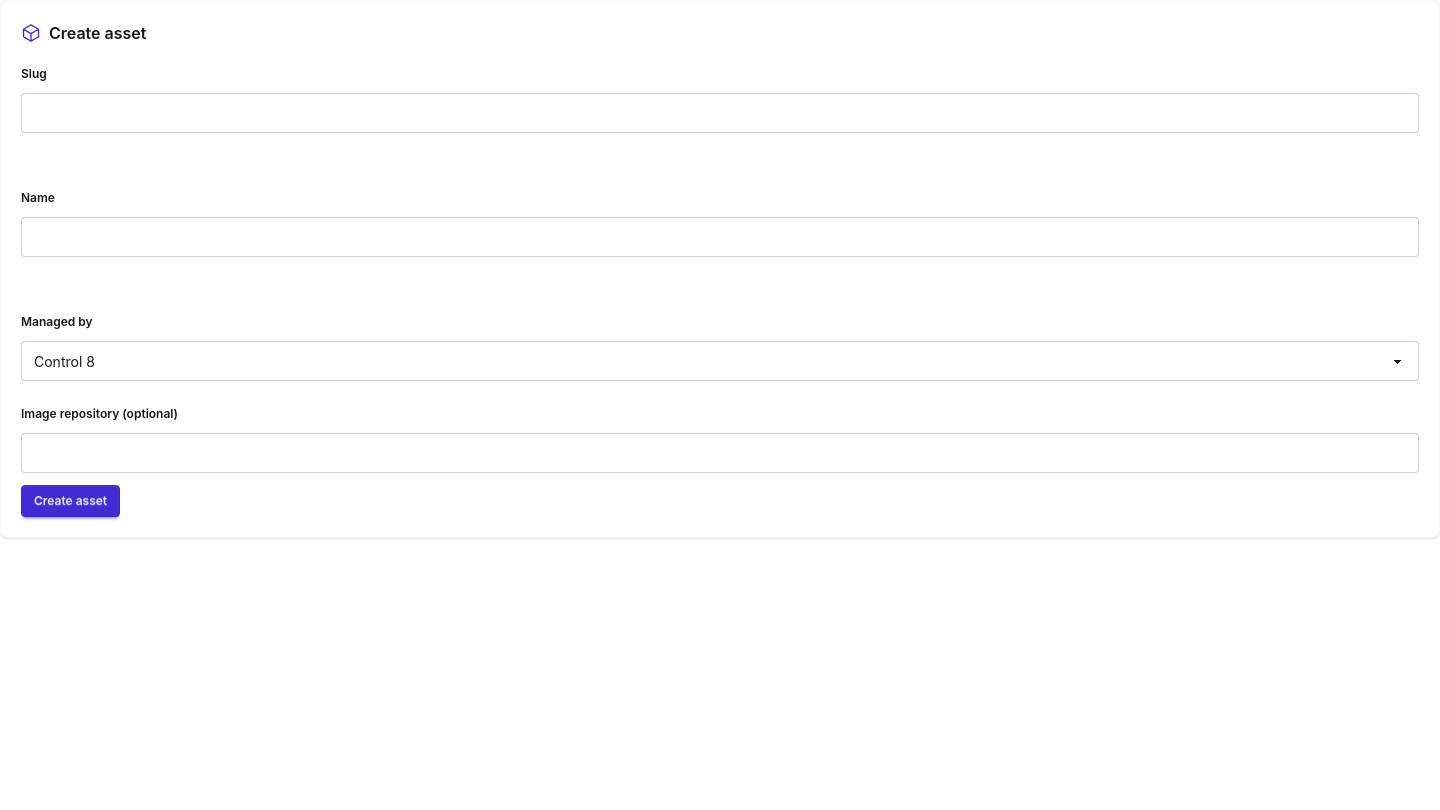
Test: API-004/UI error toasts: a 403 problem+json (missing CSRF) shows as an alert toast
The width and height of the screenshot is (1440, 810).
Type "web" into the field labelled "Slug".
click(720, 113); type("web")  # box [21, 93, 1419, 133]
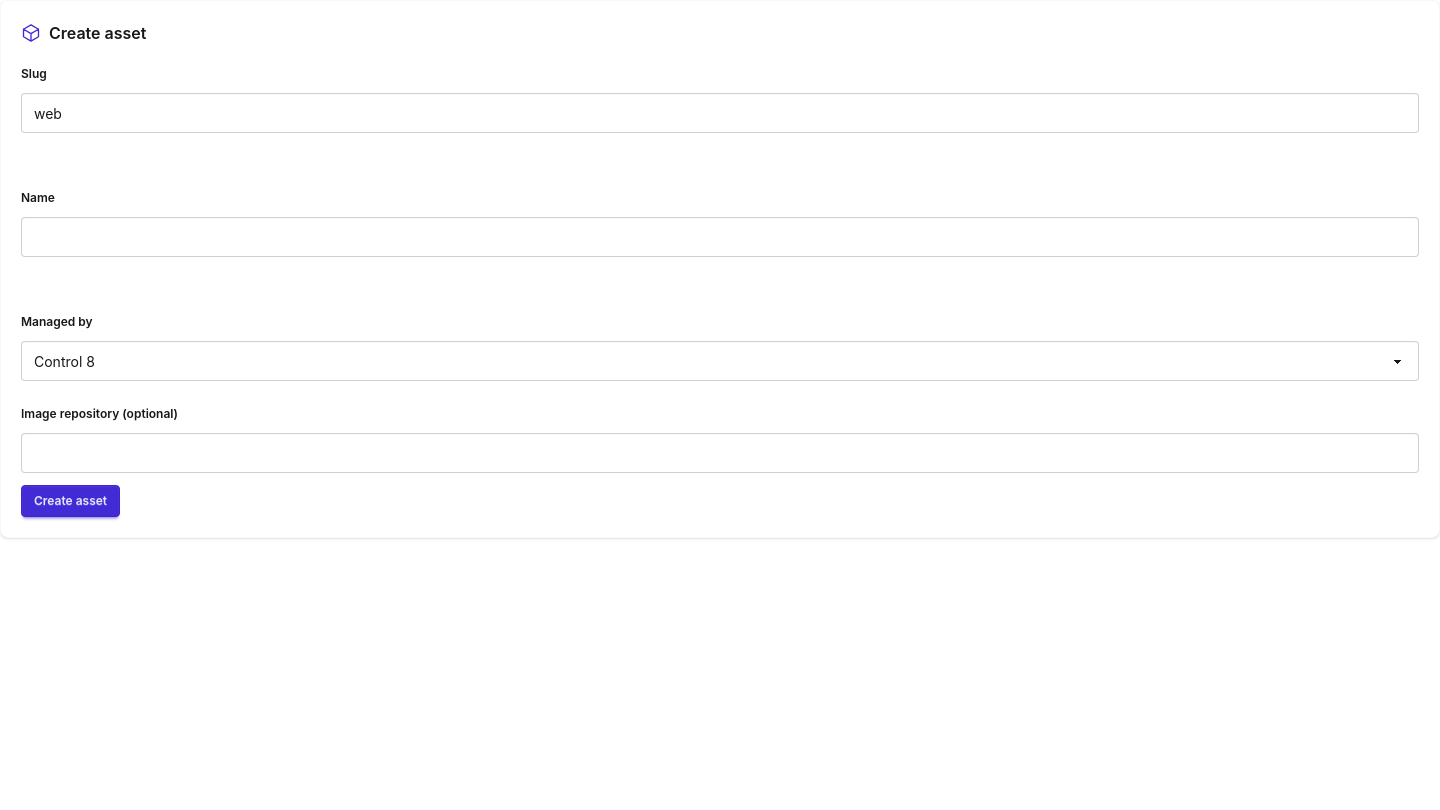
Type "Web" into the field labelled "Name".
click(720, 237); type("Web")  # box [21, 217, 1419, 257]
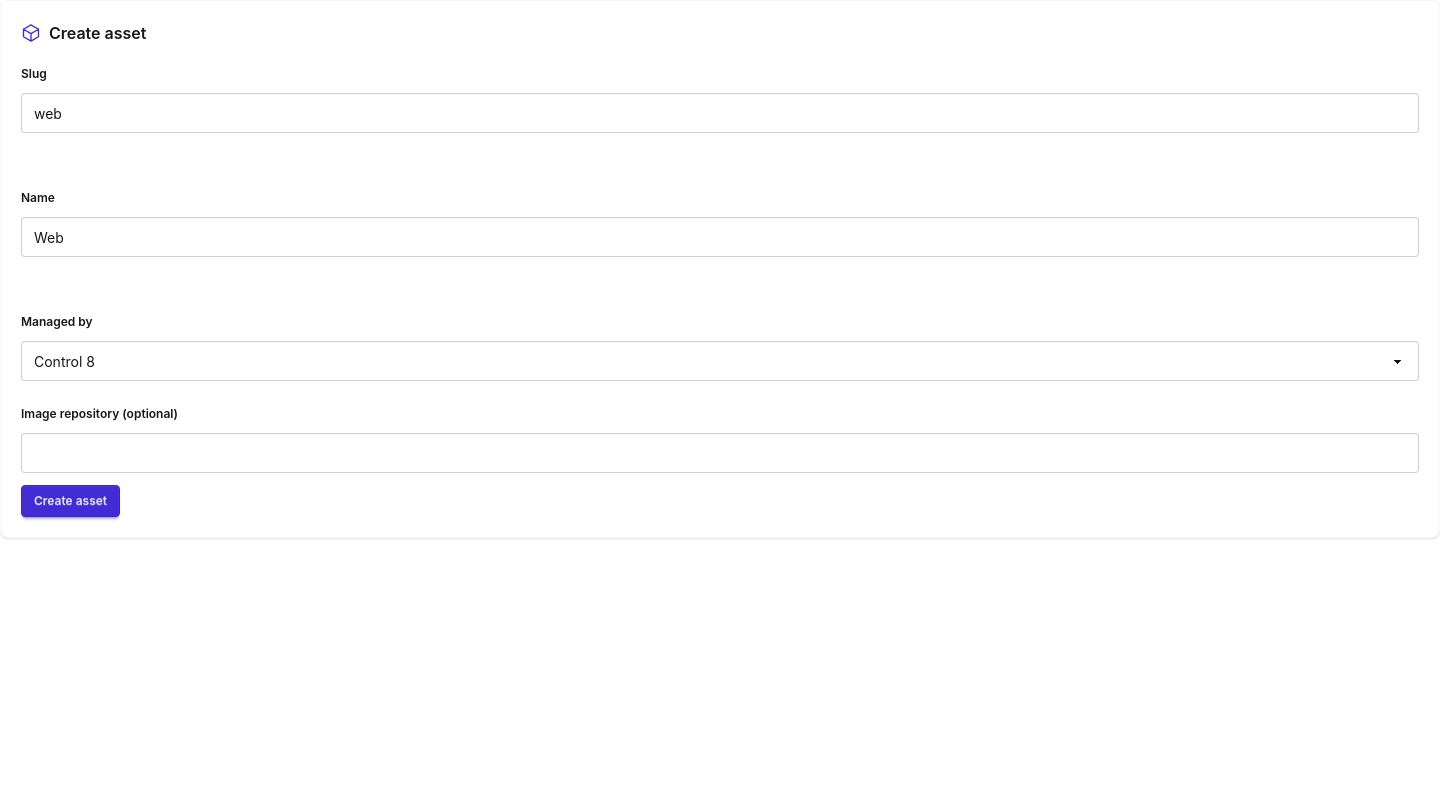
Click the button "Create asset".
click(71, 501)  # box [21, 485, 120, 517]
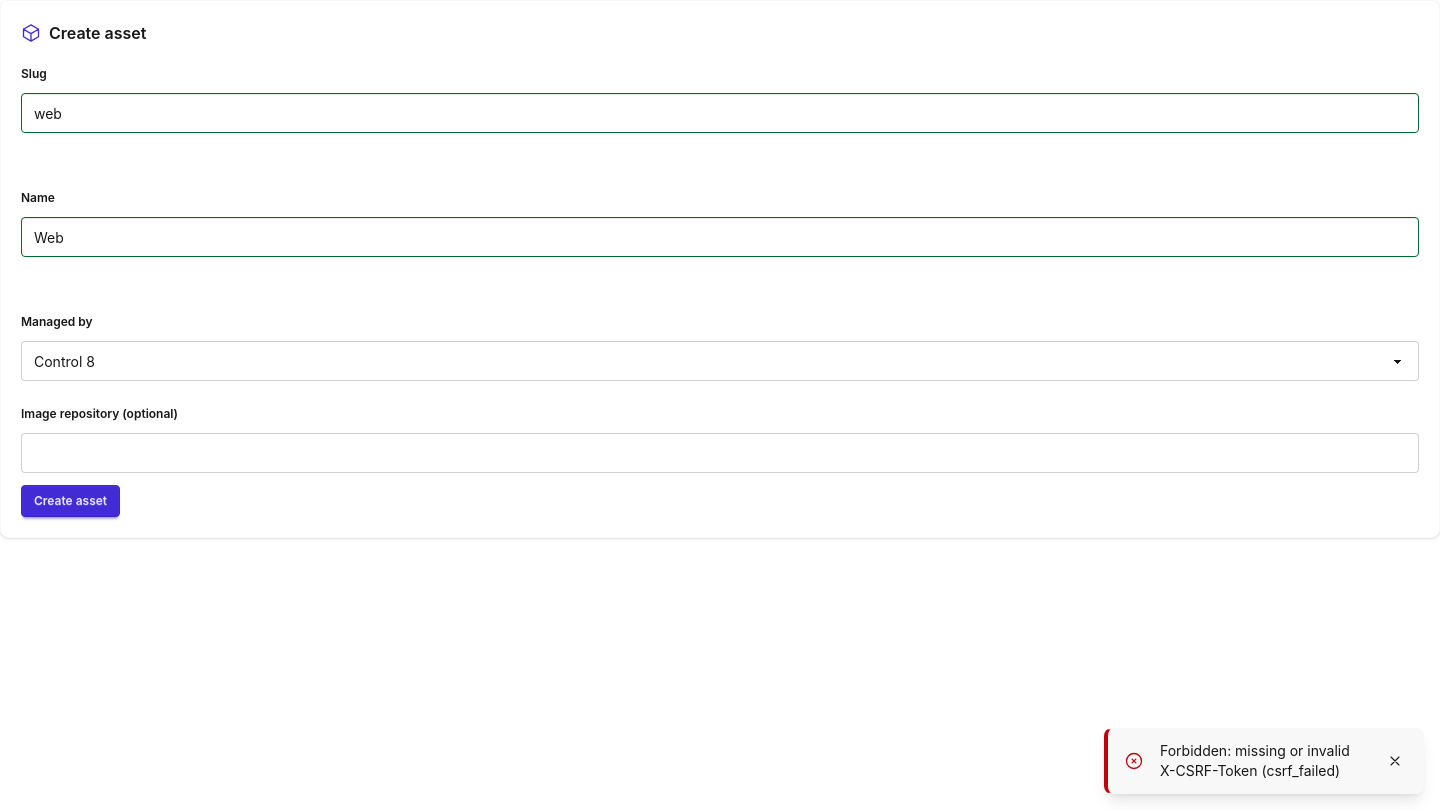
Expected: the message "Forbidden: missing or invalid X-CSRF-Token (csrf_failed)" is shown, [1104, 728, 1424, 794]
